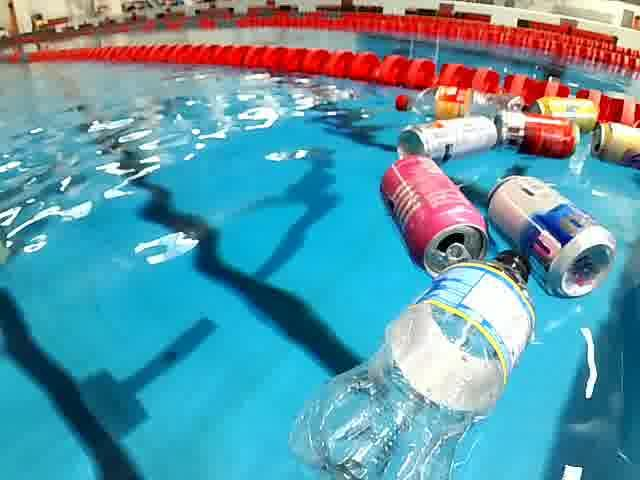Bottle: (281, 248, 537, 480), (393, 80, 527, 127)
Can: (483, 171, 626, 303), (377, 152, 494, 278), (387, 114, 502, 167), (492, 107, 584, 162), (525, 94, 603, 135), (587, 114, 640, 172)
